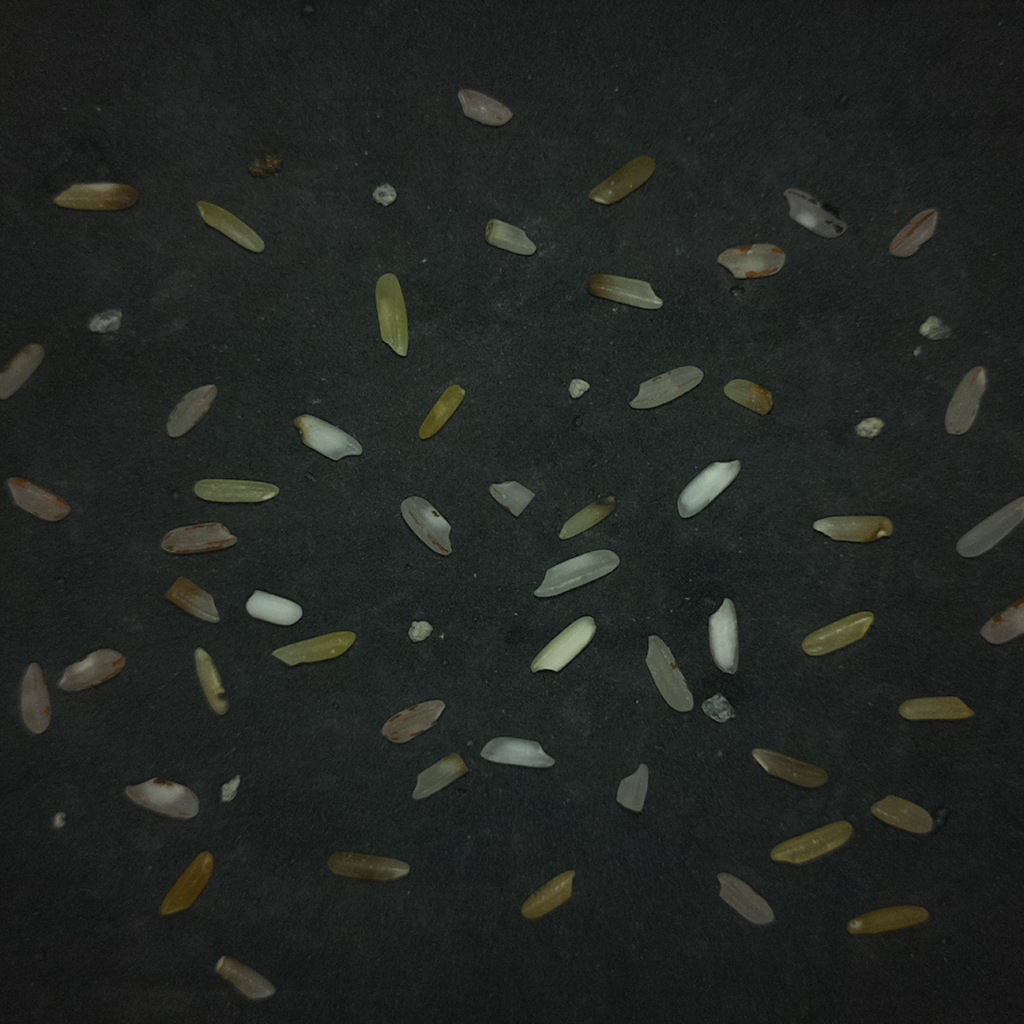broken: (629, 365, 703, 408), (945, 366, 986, 434), (412, 753, 467, 799), (457, 89, 512, 126), (489, 481, 534, 516), (616, 763, 648, 812)
chalky: (677, 460, 740, 517), (531, 616, 595, 672), (124, 778, 197, 818), (709, 598, 738, 673), (481, 737, 553, 766), (246, 590, 301, 624)
damaged: (293, 414, 361, 460), (783, 188, 845, 237), (215, 956, 275, 1000), (587, 274, 662, 309), (559, 495, 616, 539), (165, 576, 219, 622), (53, 183, 137, 210), (194, 648, 228, 714), (812, 515, 893, 542), (485, 219, 535, 255), (723, 379, 772, 415)
discolored: (770, 821, 852, 864), (197, 201, 264, 252), (160, 851, 213, 915), (801, 611, 873, 656), (588, 155, 654, 204), (752, 748, 827, 788), (271, 632, 355, 665), (375, 273, 408, 356), (521, 870, 575, 920), (419, 384, 465, 439), (327, 851, 409, 881), (847, 905, 929, 935), (871, 795, 934, 834), (193, 478, 279, 502), (898, 696, 973, 720)
foreign: (702, 693, 734, 722), (87, 308, 122, 333), (919, 315, 952, 339), (854, 417, 884, 437), (408, 620, 433, 643), (372, 183, 396, 206), (221, 774, 240, 801), (568, 378, 590, 399), (52, 813, 64, 826)
red: (646, 637, 691, 712), (58, 648, 125, 691), (381, 699, 445, 743), (6, 477, 69, 521), (166, 384, 217, 438), (401, 496, 449, 553), (0, 343, 44, 399), (888, 208, 938, 257), (717, 243, 785, 279), (161, 522, 236, 554), (20, 663, 51, 734), (981, 598, 1023, 644)
whole: (534, 549, 619, 597), (956, 497, 1023, 557), (717, 873, 774, 925)
